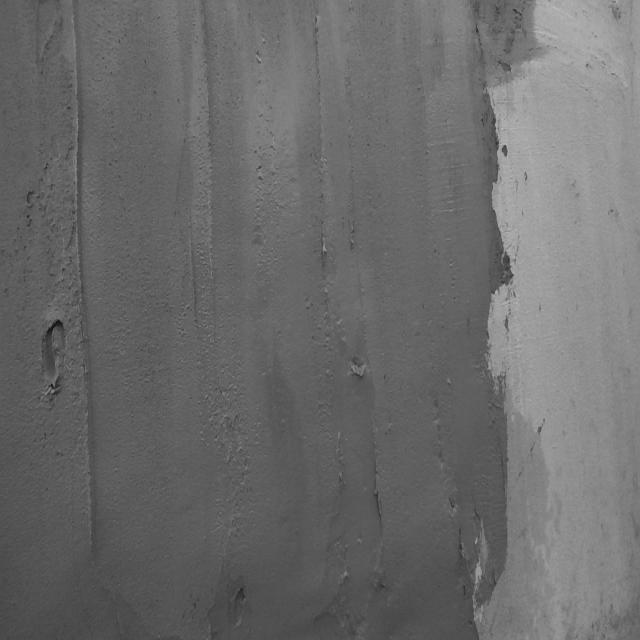trowels marks: (71, 19, 98, 562), (311, 8, 329, 289), (372, 428, 388, 533)
